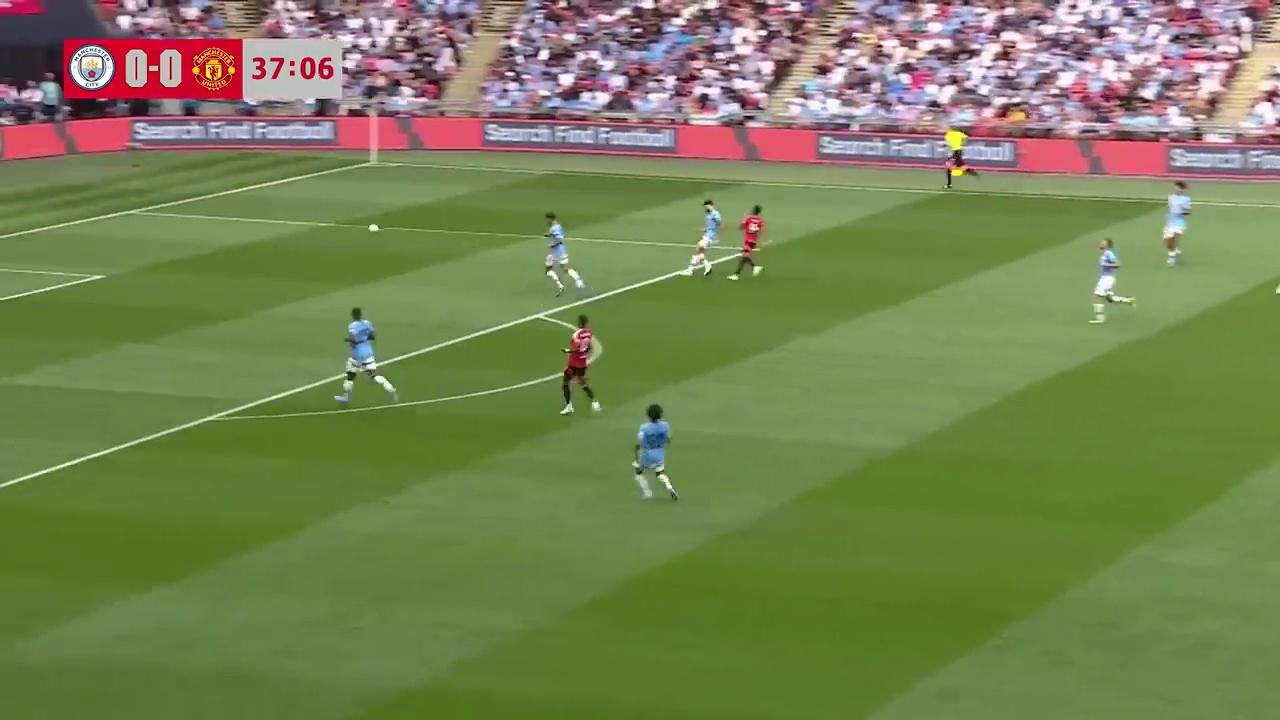ball: (365, 220, 382, 233)
player: (334, 306, 397, 404), (631, 402, 680, 501), (558, 315, 603, 416), (1091, 238, 1134, 321), (543, 213, 585, 294), (729, 205, 767, 280), (688, 199, 723, 277), (1162, 183, 1192, 266)
referee: (942, 133, 970, 191)
